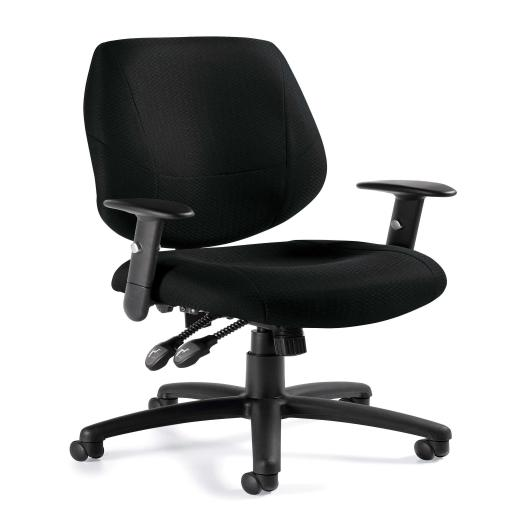chair: (69, 37, 456, 494)
